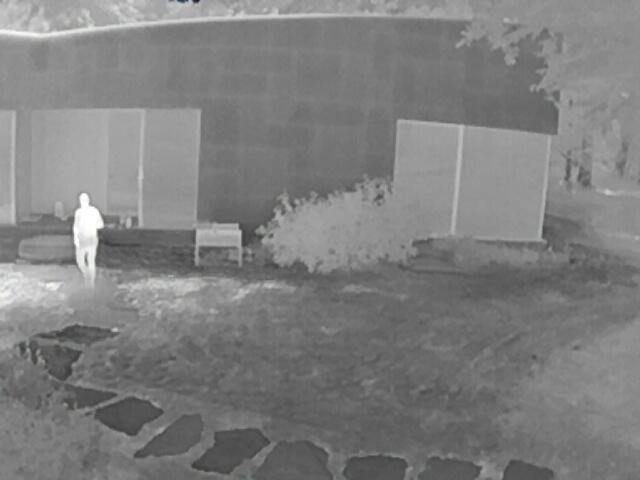person: (74, 192, 105, 289)
